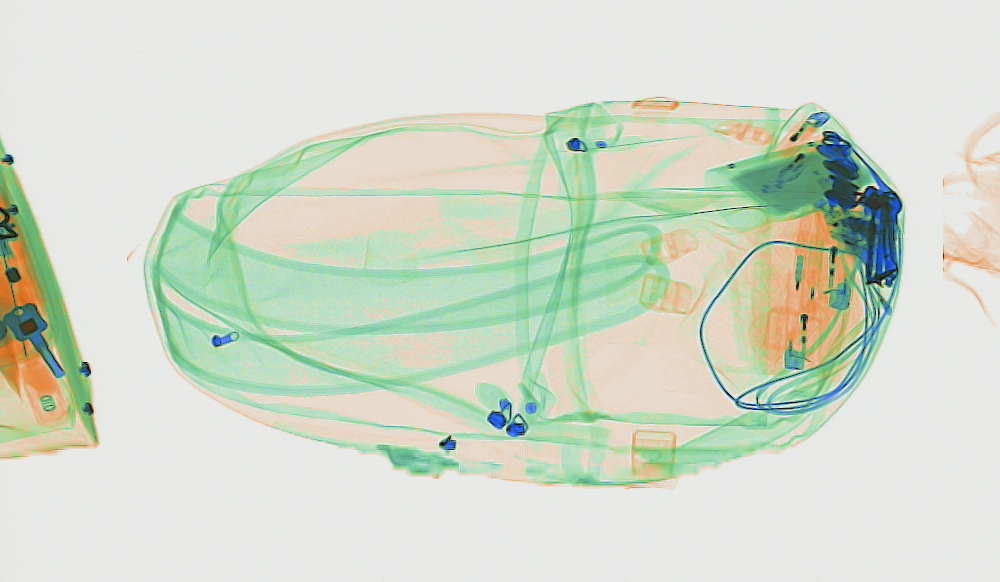lighter: (768, 110, 842, 183), (779, 265, 820, 371), (823, 197, 857, 311)
